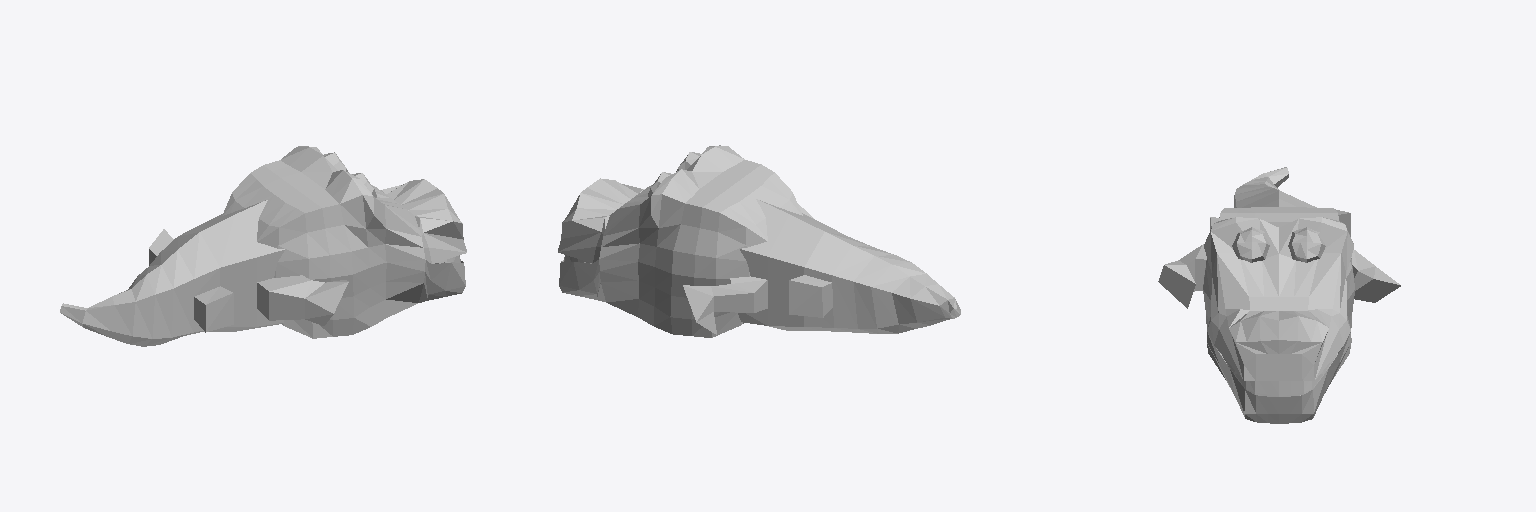
File: croc0_001.obj
The picture shows the model from 3 angles: view 1: azimuth 30°, elevation 25°; view 2: azimuth 150°, elevation 25°; view 3: azimuth 270°, elevation 25°; orthographic projection.
Parts seen in each view (by area): view 1: croc0.001_Cube.003; view 2: croc0.001_Cube.003; view 3: croc0.001_Cube.003.
Boxes of the visible parts, box(x1,y1,x2,y2) form: croc0.001_Cube.003: box(60, 146, 466, 346); croc0.001_Cube.003: box(558, 145, 960, 337); croc0.001_Cube.003: box(1158, 167, 1400, 423).
Size of the model in its own units: 1.3 by 0.4792 by 0.7024.